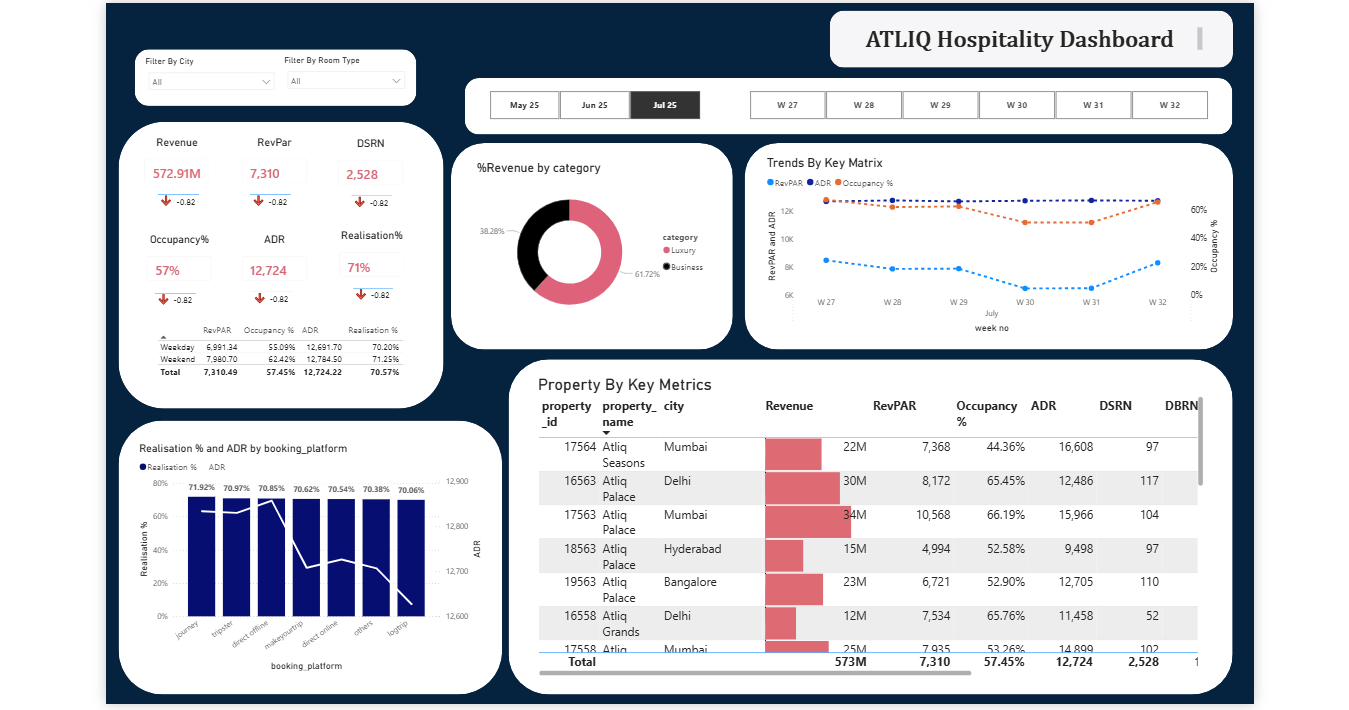

The page's visual inventory and layout, read from the dashboard file:
{"tool":"powerbi","page":{"name":"Dashboard_AtliQ","canvas":[1800,1100],"ordinal":0},"visuals":[{"type":"shape","box":[1134.7,12.2,632.7,89.8],"z":0},{"type":"shape","box":[632,558,1136,526],"z":1000},{"type":"shape","box":[20,654,602,430],"z":2000},{"type":"shape","box":[1002,220,766,324],"z":3000},{"type":"shape","box":[542,220,442,324],"z":4000},{"type":"shape","box":[20,186,510,450],"z":5000},{"type":"shape","box":[563.4,116.9,1204.2,88.7],"z":6000},{"type":"shape","box":[44.6,71.6,441.9,89.2],"z":7000},{"type":"tableEx","title":"Property By Key Metrics","fields":{"Values":["dim_hotels.property_id","dim_hotels.property_name","dim_hotels.city","Key_measures.Revenue","Key_measures.RevPAR","Key_measures.Occupancy %","Key_measures.ADR","Key_measures.DSRN","Key_measures.DBRN","Key_measures.DURN","Key_measures.Realisation %","Key_measures.Cancellation %"]},"box":[672,584,1054,476],"z":8000},{"type":"slicer","title":"Filter By City","fields":{"Values":["dim_hotels.city"]},"box":[56.8,83.8,217.6,63.5],"z":9000},{"type":"slicer","title":"Filter By Room Type","fields":{"Values":["dim_rooms.room_class"]},"box":[274.3,82.4,204.1,64.9],"z":10000},{"type":"slicer","fields":{"Values":["dim_date.mmm yy"]},"box":[576.1,131,378.9,57.7],"z":11000},{"type":"slicer","fields":{"Values":["dim_date.week no"]},"box":[984.5,131,767.6,57.7],"z":12000},{"type":"donutChart","title":"%Revenue by category","fields":{"Category":["dim_hotels.category"],"Y":["Key_measures.Revenue"]},"box":[576,248,376,266],"z":13000},{"type":"tableEx","fields":{"Values":["Key_measures.Revenue WoW change %"]},"box":[73.8,266,76.6,67.5],"z":14000},{"type":"cardVisual","title":"Revenue","fields":{"Data":["Key_measures.Revenue"]},"box":[44,207.5,136.4,92.2],"z":15000},{"type":"lineChart","title":"Trends By Key Matrix","fields":{"Category":["dim_date.mmm yy.Variation.Date Hierarchy.Month","dim_date.week no"],"Y":["Key_measures.RevPAR","Key_measures.ADR"],"Y2":["Key_measures.Occupancy %"]},"box":[1032,240,720,284],"z":16000},{"type":"lineStackedColumnComboChart","fields":{"Category":["fact_bookings.booking_platform"],"Y":["Key_measures.Realisation %"],"Y2":["Key_measures.ADR"]},"box":[47.9,687.5,547.9,364.6],"z":17000},{"type":"tableEx","fields":{"Values":["dim_date.day_type","Key_measures.RevPAR","Key_measures.Occupancy %","Key_measures.ADR","Key_measures.Realisation %"]},"box":[75,497.9,397.9,120.8],"z":18000},{"type":"tableEx","fields":{"Values":["Key_measures.Revenue WoW change %"]},"box":[220.3,266,75,66.7],"z":19000},{"type":"cardVisual","title":"RevPar","fields":{"Data":["Key_measures.RevPAR"]},"box":[196.7,207.6,136.4,92.2],"z":20000},{"type":"tableEx","fields":{"Values":["Key_measures.Revenue WoW change %"]},"box":[379,268.7,75,66.7],"z":21000},{"type":"cardVisual","title":"DSRN","fields":{"Data":["Key_measures.DSRN"]},"box":[346.7,210.2,136.4,92.2],"z":22000},{"type":"tableEx","fields":{"Values":["Key_measures.Revenue WoW change %"]},"box":[71,420.7,75,66.7],"z":23000},{"type":"cardVisual","title":"Occupancy%","fields":{"Data":["Key_measures.Occupancy %"]},"box":[47.7,361.5,136.4,92.2],"z":24000},{"type":"tableEx","fields":{"Values":["Key_measures.Revenue WoW change %"]},"box":[220.7,419.3,75,66.7],"z":25000},{"type":"cardVisual","title":"ADR","fields":{"Data":["Key_measures.ADR"]},"box":[195.4,360.2,136.4,92.2],"z":26000},{"type":"tableEx","fields":{"Values":["Key_measures.Revenue WoW change %"]},"box":[380,414,75,66.7],"z":27000},{"type":"cardVisual","title":"Realisation%","fields":{"Data":["Key_measures.Realisation %"]},"box":[349.4,354.8,136.4,92.2],"z":28000},{"type":"textbox","box":[1185.7,32.7,538.8,49],"z":29000}]}

Visuals, with their boxes on the page's 1800x1100 design canvas (x1, y1, x2, y2). These are canvas units, not pixel positions in the 1349x710 screenshot, which may show the page scaled, cropped or inside an application window:
shape: <bbox>1135, 12, 1767, 102</bbox>
shape: <bbox>632, 558, 1768, 1084</bbox>
shape: <bbox>20, 654, 622, 1084</bbox>
shape: <bbox>1002, 220, 1768, 544</bbox>
shape: <bbox>542, 220, 984, 544</bbox>
shape: <bbox>20, 186, 530, 636</bbox>
shape: <bbox>563, 117, 1768, 206</bbox>
shape: <bbox>45, 72, 486, 161</bbox>
"Property By Key Metrics" tableEx: <bbox>672, 584, 1726, 1060</bbox>
"Filter By City" slicer: <bbox>57, 84, 274, 147</bbox>
"Filter By Room Type" slicer: <bbox>274, 82, 478, 147</bbox>
slicer - dim_date.mmm yy: <bbox>576, 131, 955, 189</bbox>
slicer - dim_date.week no: <bbox>984, 131, 1752, 189</bbox>
"%Revenue by category" donutChart: <bbox>576, 248, 952, 514</bbox>
tableEx - Key_measures.Revenue WoW change %: <bbox>74, 266, 150, 334</bbox>
"Revenue" cardVisual: <bbox>44, 208, 180, 300</bbox>
"Trends By Key Matrix" lineChart: <bbox>1032, 240, 1752, 524</bbox>
lineStackedColumnComboChart - fact_bookings.booking_platform x Key_measures.Realisation %: <bbox>48, 688, 596, 1052</bbox>
tableEx - dim_date.day_type x Key_measures.RevPAR: <bbox>75, 498, 473, 619</bbox>
tableEx - Key_measures.Revenue WoW change %: <bbox>220, 266, 295, 333</bbox>
"RevPar" cardVisual: <bbox>197, 208, 333, 300</bbox>
tableEx - Key_measures.Revenue WoW change %: <bbox>379, 269, 454, 335</bbox>
"DSRN" cardVisual: <bbox>347, 210, 483, 302</bbox>
tableEx - Key_measures.Revenue WoW change %: <bbox>71, 421, 146, 487</bbox>
"Occupancy%" cardVisual: <bbox>48, 362, 184, 454</bbox>
tableEx - Key_measures.Revenue WoW change %: <bbox>221, 419, 296, 486</bbox>
"ADR" cardVisual: <bbox>195, 360, 332, 452</bbox>
tableEx - Key_measures.Revenue WoW change %: <bbox>380, 414, 455, 481</bbox>
"Realisation%" cardVisual: <bbox>349, 355, 486, 447</bbox>
textbox: <bbox>1186, 33, 1724, 82</bbox>
